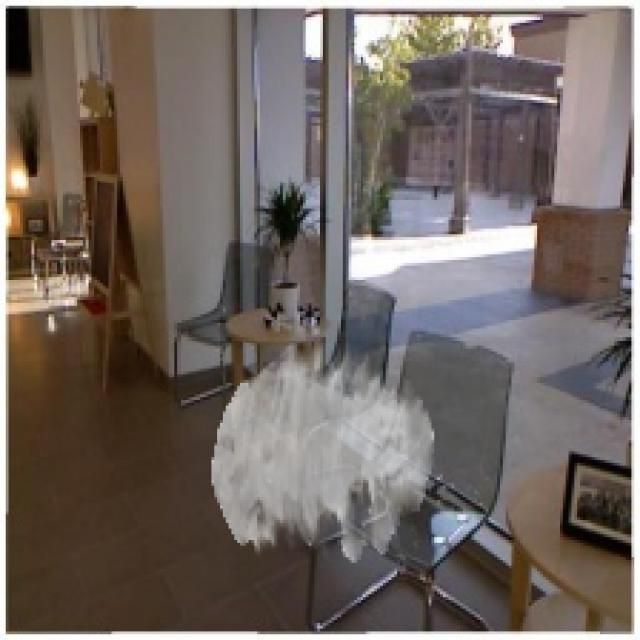smoke: (212, 340, 434, 563)
